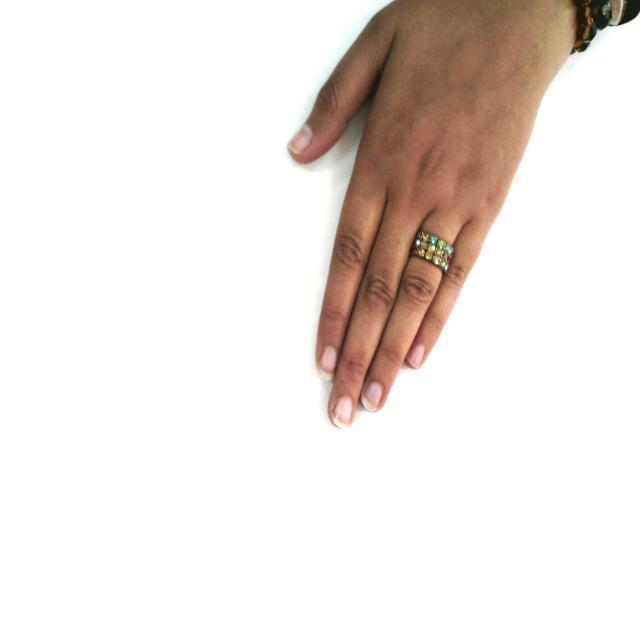Fingernail: (333, 394, 353, 430), (319, 345, 337, 381), (362, 383, 383, 412), (289, 126, 311, 152), (407, 345, 424, 369)
